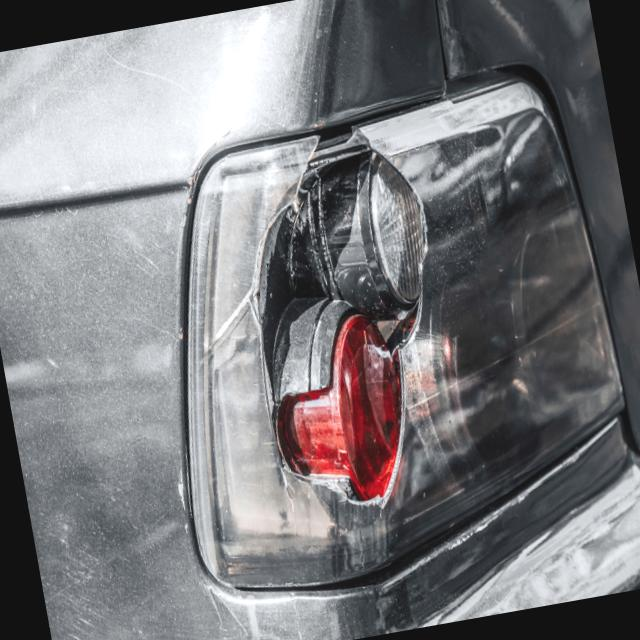Phare abime: (128, 70, 640, 579)
